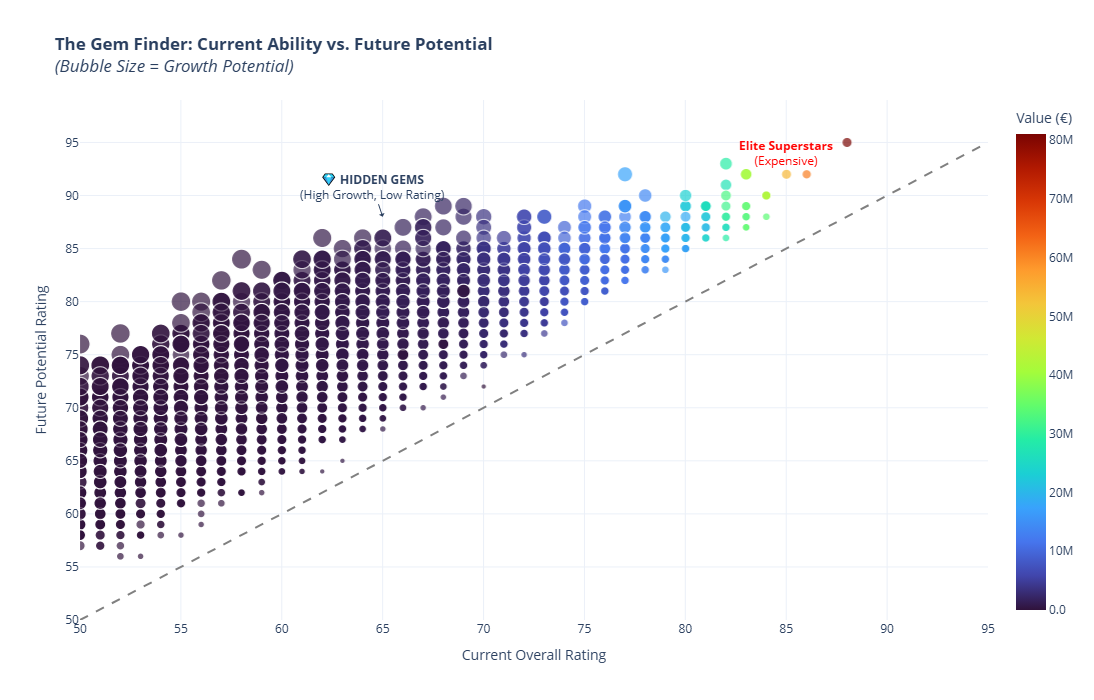

Layout of this report page (visuals, bound fields, positions):
{"tool":"tableau","page":{"name":"Dashboard 4","canvas":[1650,850],"ordinal":3},"visuals":[{"type":"text","box":[6.6,9.6,1626.9,54.2]},{"type":"worksheet","title":"Sheet 13","mark":"Circle","rows":["Value"],"cols":["Plot_X"],"box":[824,65,828,373]},{"type":"worksheet","title":"Sheet 12","mark":"Circle","rows":["Release Clause"],"cols":["Value"],"box":[16,68,808,370]},{"type":"legend","title":"Sheet 12","param":"[federated.1f8431101hw87q1b8qc5m1e5blb5].[sum:Clause_Premium_Pct:qk]","box":[123,143,140,88]},{"type":"legend","title":"Sheet 12","param":"[federated.1f8431101hw87q1b8qc5m1e5blb5].[sum:Wage:qk]","box":[723,267,98,107]},{"type":"worksheet","title":"Sheet 14","mark":"Circle","rows":["Value"],"cols":["Status","Wage"],"box":[5,447,820,400]},{"type":"worksheet","title":"Sheet 15","mark":"Bar","rows":["Club","Name"],"cols":["Financial_Burden","Financial_Burden"],"box":[827,447,819,401]},{"type":"legend","title":"Sheet 14","param":"[federated.1sr6v2i0opbirx1fywx531h7k1nd].[sum:Overall:qk]","box":[683,728,140,88]}]}

Visuals, with their boxes on the page's 1650x850 design canvas (x1, y1, x2, y2). These are canvas units, not pixel positions in the 1094x700 screenshot, which may show the page scaled, cropped or inside an application window:
text: rect(7, 10, 1634, 64)
"Sheet 13" worksheet (Circle marks): rect(824, 65, 1652, 438)
"Sheet 12" worksheet (Circle marks): rect(16, 68, 824, 438)
"Sheet 12" legend: rect(123, 143, 263, 231)
"Sheet 12" legend: rect(723, 267, 821, 374)
"Sheet 14" worksheet (Circle marks): rect(5, 447, 825, 847)
"Sheet 15" worksheet (Bar marks): rect(827, 447, 1646, 848)
"Sheet 14" legend: rect(683, 728, 823, 816)
